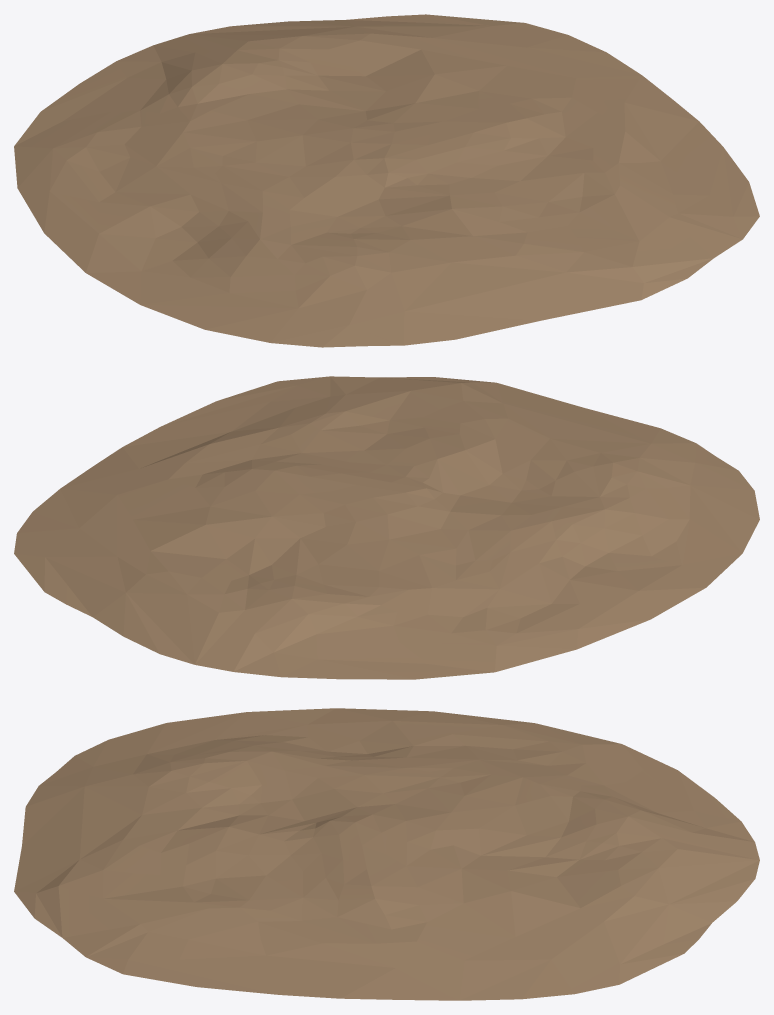
The model's file is SM_Generic_Ground_02.glb.
The picture shows the model from 3 angles, top to bottom: view 1: azimuth 30°, elevation 25°; view 2: azimuth 150°, elevation 25°; view 3: azimuth 270°, elevation 25°; orthographic projection. The views are drawn at different scales.
Visible parts, largest first — view 1: SM_Generic_Ground_02; view 2: SM_Generic_Ground_02; view 3: SM_Generic_Ground_02.
Boxes of the visible parts, bbox=[...] form: SM_Generic_Ground_02: bbox=[14, 14, 759, 347]; SM_Generic_Ground_02: bbox=[14, 376, 759, 679]; SM_Generic_Ground_02: bbox=[14, 708, 759, 1000].
Size of the model in its own units: 10.42 by 0.5238 by 11.23.
1 material, 1 textured.
